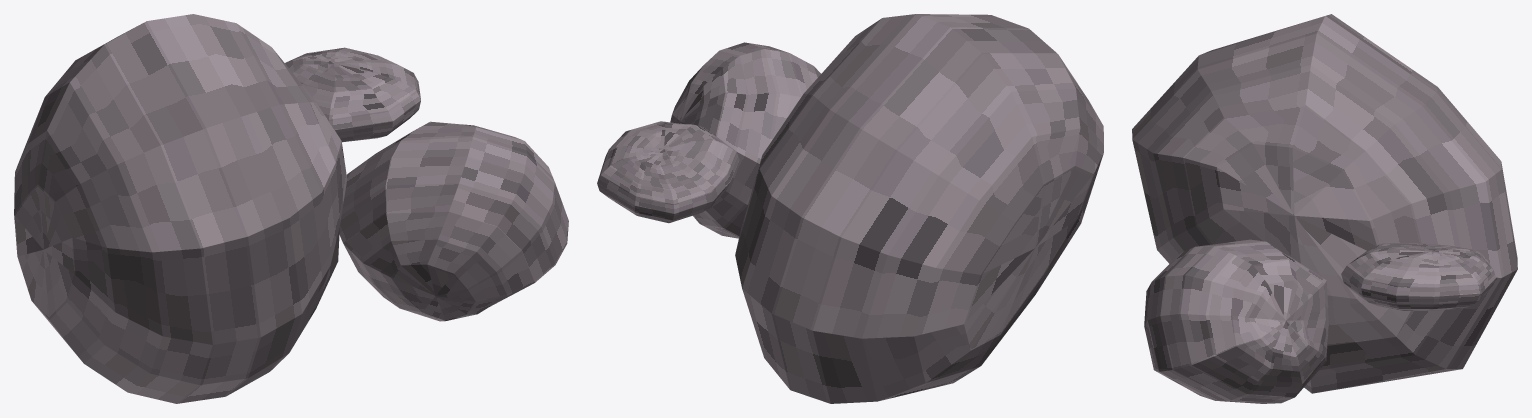
Rendered from pedres_1.FBX.
3 views of the same model, side by side, from view 1: azimuth 30°, elevation 25°; view 2: azimuth 150°, elevation 25°; view 3: azimuth 270°, elevation 25° (orthographic). The views are drawn at different scales.
Visible parts, largest first — view 1: pedres_1; view 2: pedres_1; view 3: pedres_1.
Part boxes in pixels (left/top/right/bottom): pedres_1: left=14, top=14, right=568, bottom=403; pedres_1: left=597, top=14, right=1103, bottom=403; pedres_1: left=1132, top=14, right=1517, bottom=403.
Size of what is drawn, in the model's own units: 1670 by 1367 by 1346.
